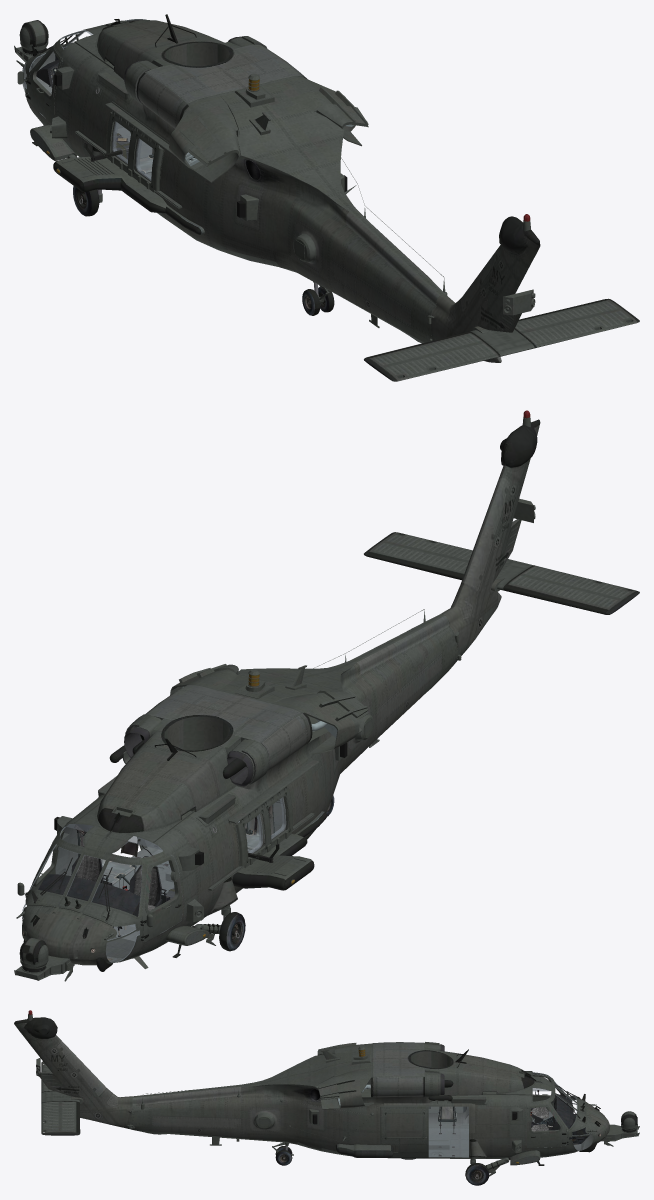
Rendered from sh60_body.glb.
3 views of the same model, one above another, from view 1: azimuth 30°, elevation 25°; view 2: azimuth 150°, elevation 25°; view 3: azimuth 270°, elevation 25° (orthographic). The views are drawn at different scales.
Visible parts, largest first — view 1: body; view 2: body; view 3: body.
Boxes of the visible parts, x1,y1,x2,y2 form: body: (14,14,639,381); body: (14,410,639,981); body: (14,1010,639,1185).
Size of the model in its own units: 5.16 by 5.01 by 18.57.
3 materials, 2 textured.
